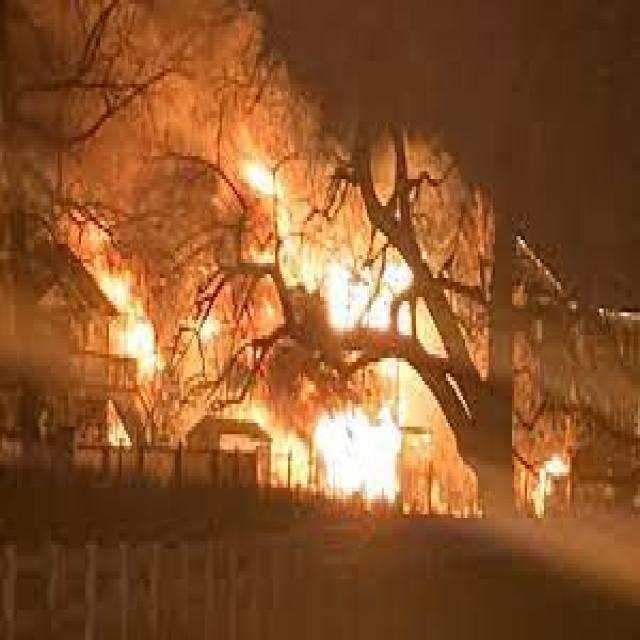Fire: (103, 140, 578, 534)
